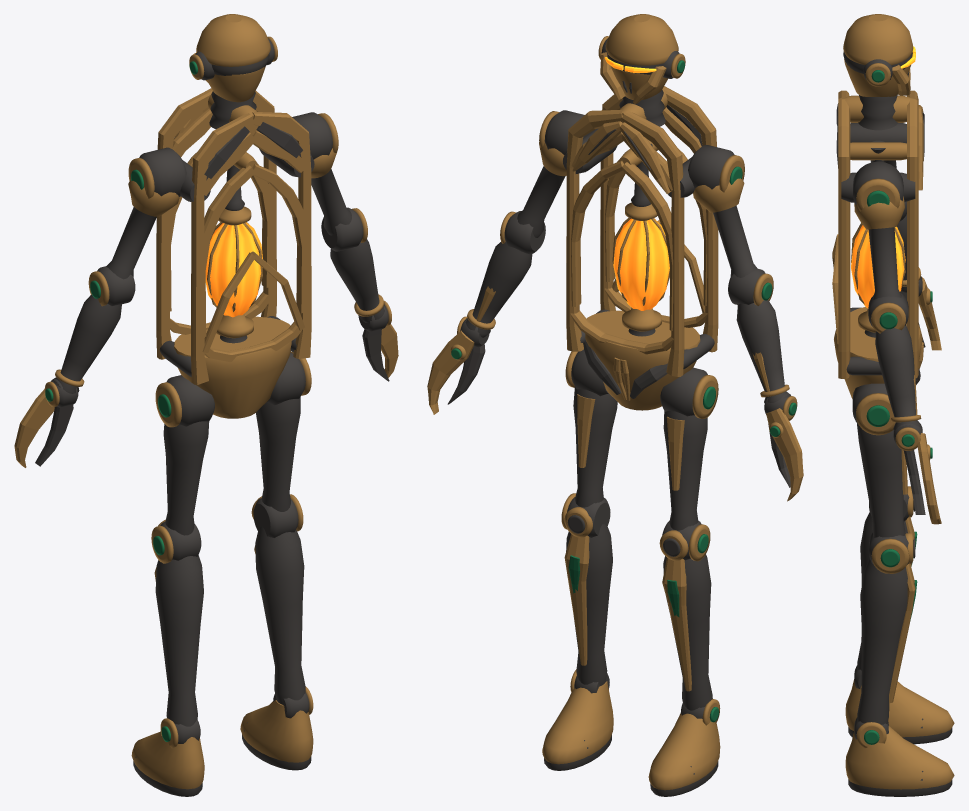
The model's file is trellis-keeper-base.glb.
3 renders of one model, left to right at view 1: azimuth 30°, elevation 25°; view 2: azimuth 150°, elevation 25°; view 3: azimuth 270°, elevation 25°, orthographic. The views are drawn at different scales.
Visible parts, largest first — view 1: right-greave, left-greave, pelvis-casting, back-upright-1, left-thigh, right-thigh, pod-six-lobed-glass, right-boot, back-upright1, helmet-crown, left-boot, left-vambrace (+33 smaller); view 2: pelvis-casting, right-boot, facade-upright-1, pod-six-lobed-glass, left-boot, right-greave, left-greave, left-thigh, right-thigh, helmet-crown, facade-upright1, left-vambrace (+30 smaller); view 3: right-greave, right-boot, right-thigh, back-upright1, right-vambrace, facade-upright1, helmet-crown, left-boot, right-humerus, pod-six-lobed-glass, pelvis-casting, neck-gaiter (+34 smaller).
Part boxes in pixels (bbox=[...]): right-greave: bbox=[255, 526, 305, 704]; left-greave: bbox=[155, 555, 203, 726]; pelvis-casting: bbox=[174, 316, 291, 418]; back-upright-1: bbox=[191, 113, 253, 384]; left-thigh: bbox=[163, 421, 209, 535]; right-thigh: bbox=[256, 397, 300, 511]; pod-six-lobed-glass: bbox=[205, 222, 262, 317]; right-boot: bbox=[240, 700, 313, 762]; back-upright1: bbox=[252, 112, 311, 358]; helmet-crown: bbox=[196, 14, 270, 66]; left-boot: bbox=[131, 731, 204, 789]; left-vambrace: bbox=[53, 295, 121, 393]; pelvis-casting: bbox=[585, 310, 700, 410]; right-boot: bbox=[542, 681, 613, 764]; facade-upright-1: bbox=[622, 110, 684, 376]; pod-six-lobed-glass: bbox=[613, 218, 669, 310]; left-boot: bbox=[648, 713, 720, 790]; right-greave: bbox=[566, 524, 612, 685]; left-greave: bbox=[663, 554, 712, 710]; left-thigh: bbox=[663, 411, 707, 530]; right-thigh: bbox=[573, 387, 617, 507]; helmet-crown: bbox=[605, 14, 678, 65]; facade-upright1: bbox=[566, 109, 624, 351]; left-vambrace: bbox=[736, 300, 790, 402]; right-greave: bbox=[857, 559, 907, 724]; right-boot: bbox=[845, 726, 954, 789]; right-thigh: bbox=[857, 423, 905, 537]; back-upright1: bbox=[838, 99, 850, 378]; right-vambrace: bbox=[875, 325, 920, 430]; facade-upright1: bbox=[907, 99, 918, 378]; helmet-crown: bbox=[843, 14, 913, 65]; left-boot: bbox=[845, 679, 954, 737]; right-humerus: bbox=[868, 227, 901, 299]; pod-six-lobed-glass: bbox=[851, 225, 905, 308]; pelvis-casting: bbox=[834, 307, 922, 398]; neck-gaiter: bbox=[858, 95, 897, 130].
Size of the model in its own units: 0.9276 by 1.75 by 0.261.
